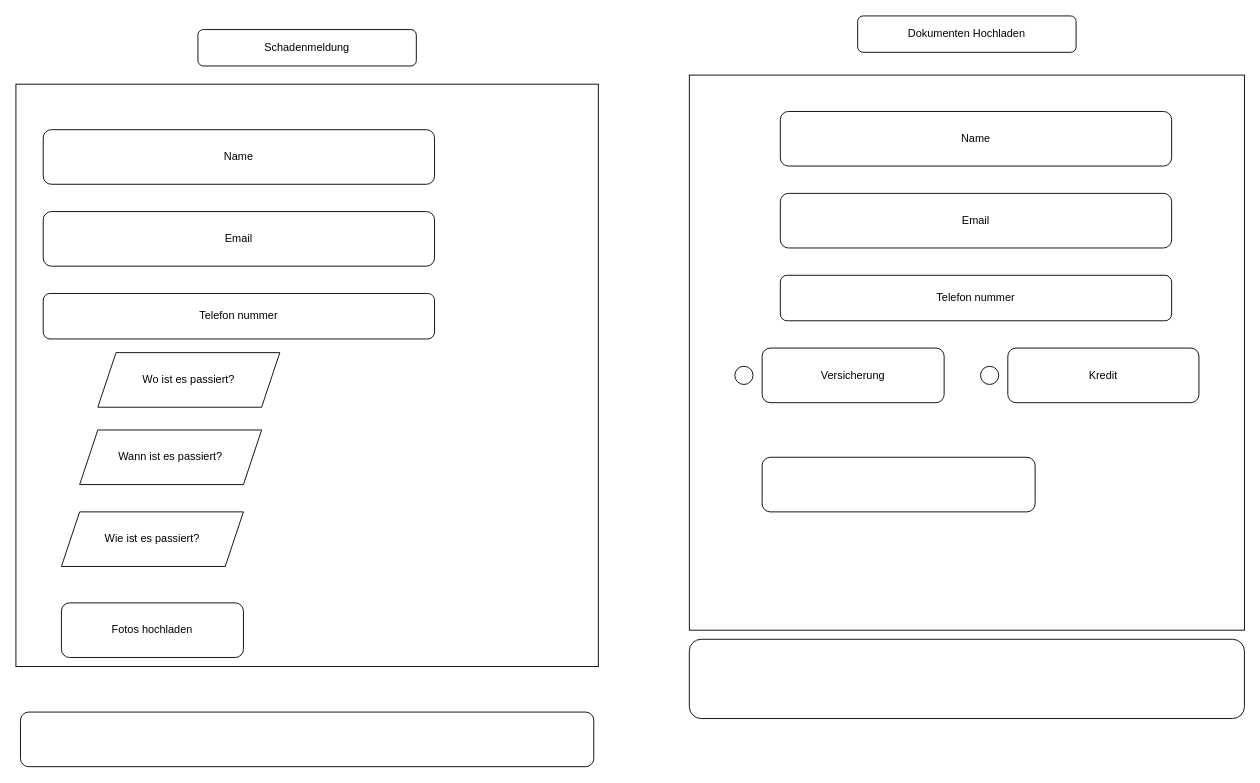
Image size: 1260x783. Some labels were removed from this diagram. The shapes that lost their labels are listed below. From the top down, each one's centre as x and y in pixels, then its label:
At point (898, 484): "Daten Hochladen".
At point (966, 678): "checkbox datenschutz".
At point (307, 739): "https://universal.signosign.com/".
